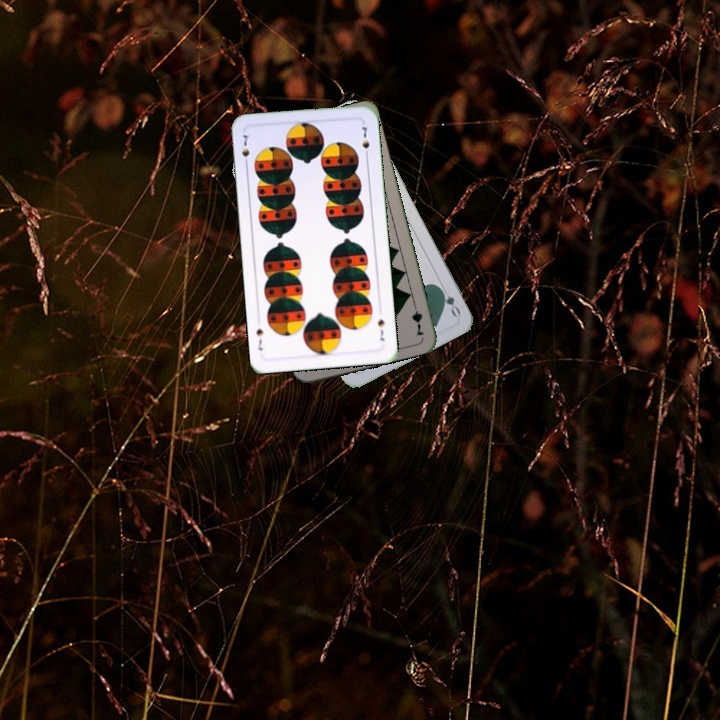G7: (408, 298, 427, 338)
GO: (434, 281, 463, 319)
S7: (238, 129, 252, 169), (374, 315, 387, 343)
